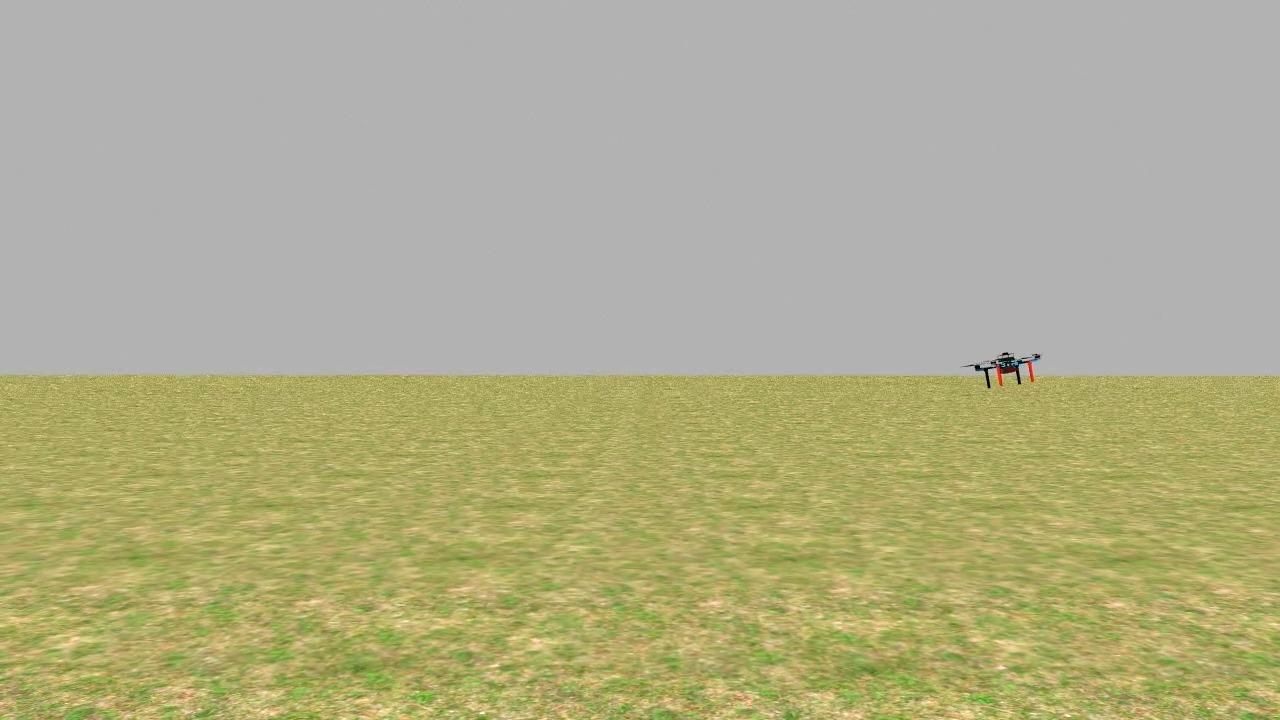UAV: (967, 340, 1049, 393)
